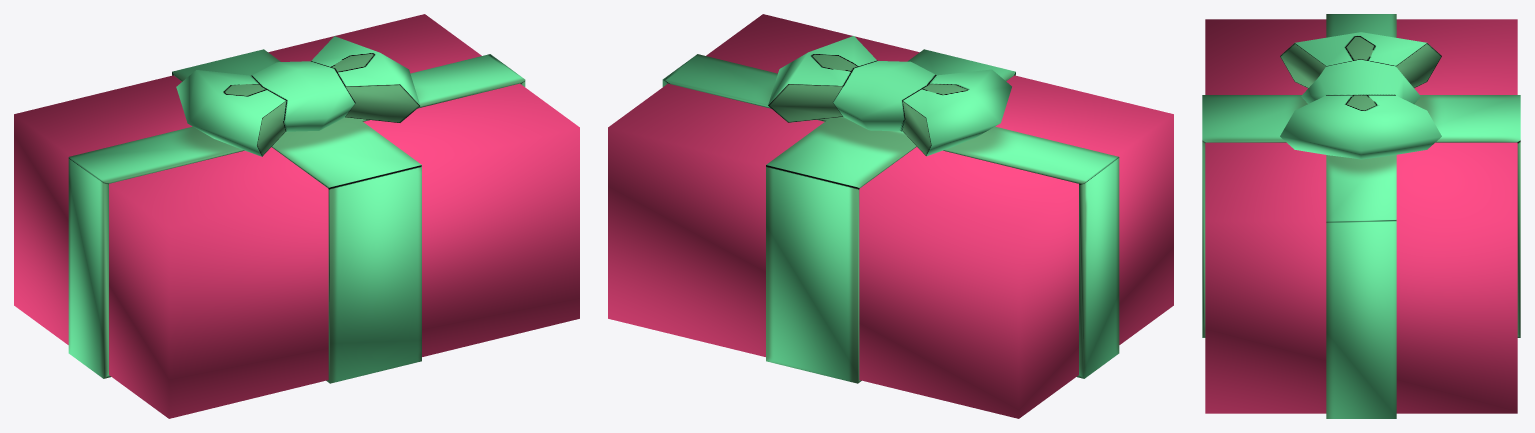
File: presente1.fbx
The picture shows the model from 3 angles, left to right: view 1: azimuth 30°, elevation 25°; view 2: azimuth 150°, elevation 25°; view 3: azimuth 270°, elevation 25°; orthographic projection.
Parts seen in each view (by area): view 1: Presente.001; view 2: Presente.001; view 3: Presente.001.
Boxes of the visible parts, box(x1,y1,x2,y2) form: Presente.001: box(14, 14, 579, 418); Presente.001: box(608, 14, 1173, 418); Presente.001: box(1202, 14, 1520, 418).
Bounding box in the file's own units: 98.34 × 54.54 × 63.81.
Materials: 1 (1 with a texture image).
